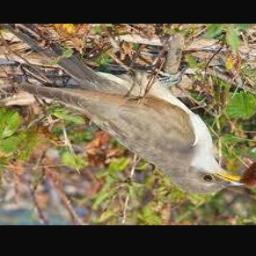Cuckoo: (3, 24, 246, 194)
